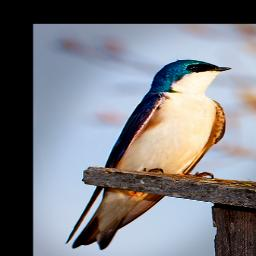Swallow: (64, 58, 233, 251)
